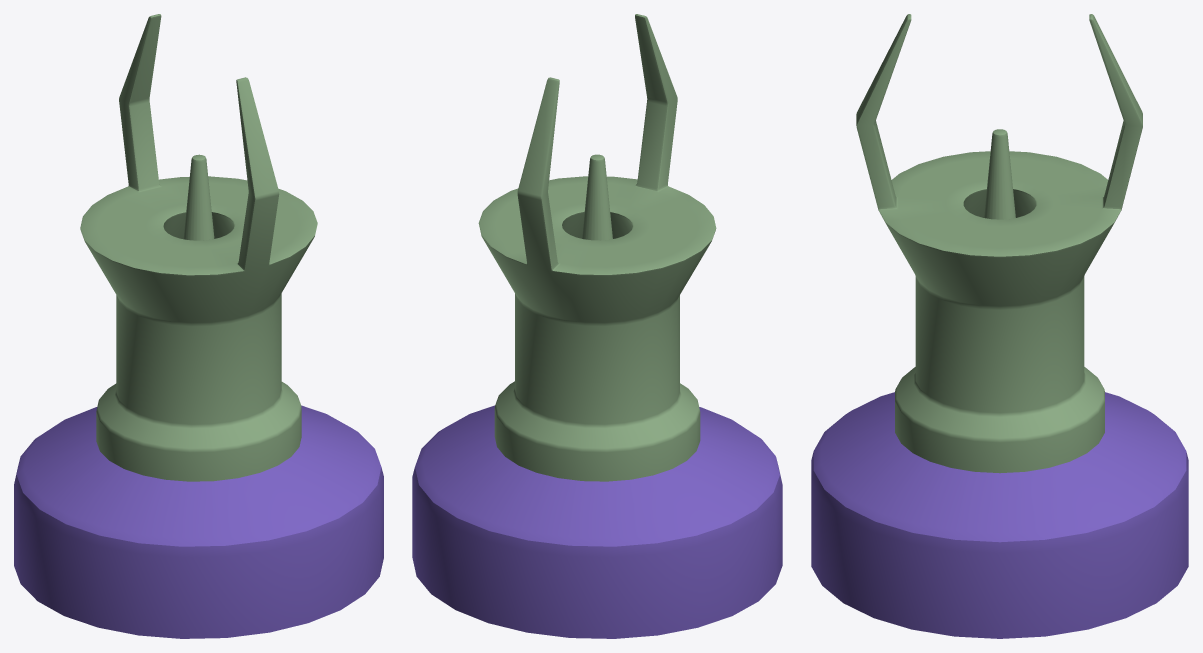
Rendered from LaserBeacon.fbx.
3 renders of one model, left to right at view 1: azimuth 30°, elevation 25°; view 2: azimuth 150°, elevation 25°; view 3: azimuth 270°, elevation 25°, orthographic. The views are drawn at different scales.
Visible parts, largest first — view 1: Scenery_LaserBeacon_Body, Scenery_LaserBeacon_Bottom; view 2: Scenery_LaserBeacon_Body, Scenery_LaserBeacon_Bottom; view 3: Scenery_LaserBeacon_Bottom, Scenery_LaserBeacon_Body.
Part boxes in pixels (x1,y1,x2,y2): Scenery_LaserBeacon_Body: (80,14,317,481); Scenery_LaserBeacon_Bottom: (14,405,383,638); Scenery_LaserBeacon_Body: (478,14,716,481); Scenery_LaserBeacon_Bottom: (412,405,782,638); Scenery_LaserBeacon_Bottom: (811,392,1188,638); Scenery_LaserBeacon_Body: (856,14,1142,473).
Bounding box in the file's own units: 8.24 × 12.57 × 7.96.
